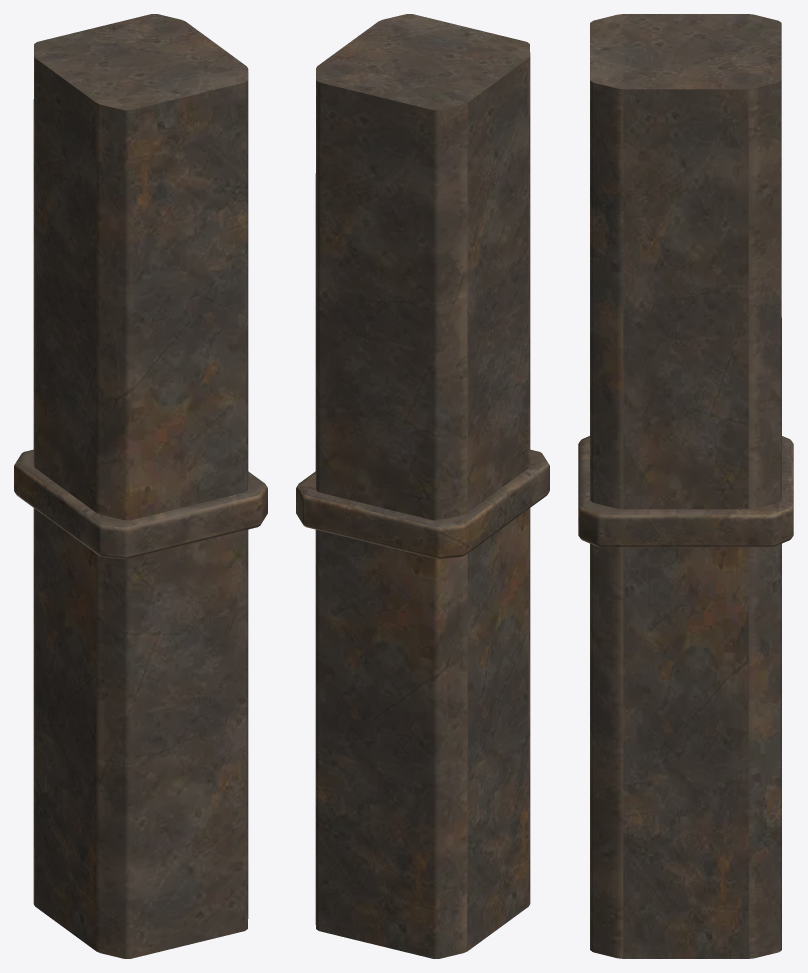
The picture shows the model from 3 angles, left to right: view 1: azimuth 30°, elevation 25°; view 2: azimuth 150°, elevation 25°; view 3: azimuth 270°, elevation 25°; orthographic projection. The views are drawn at different scales.
Visible parts, largest first — view 1: SM_BB_T3_Extended_Beam_Thin_Med_Vertical_LOD0; view 2: SM_BB_T3_Extended_Beam_Thin_Med_Vertical_LOD0; view 3: SM_BB_T3_Extended_Beam_Thin_Med_Vertical_LOD0.
Boxes of the visible parts, x1,y1,x2,y2 form: SM_BB_T3_Extended_Beam_Thin_Med_Vertical_LOD0: (14,14,267,958); SM_BB_T3_Extended_Beam_Thin_Med_Vertical_LOD0: (296,14,549,958); SM_BB_T3_Extended_Beam_Thin_Med_Vertical_LOD0: (578,14,793,958).
Bounding box in the file's own units: 0.3134 × 1.5 × 0.3368.
Materials: 1 (1 with a texture image).
